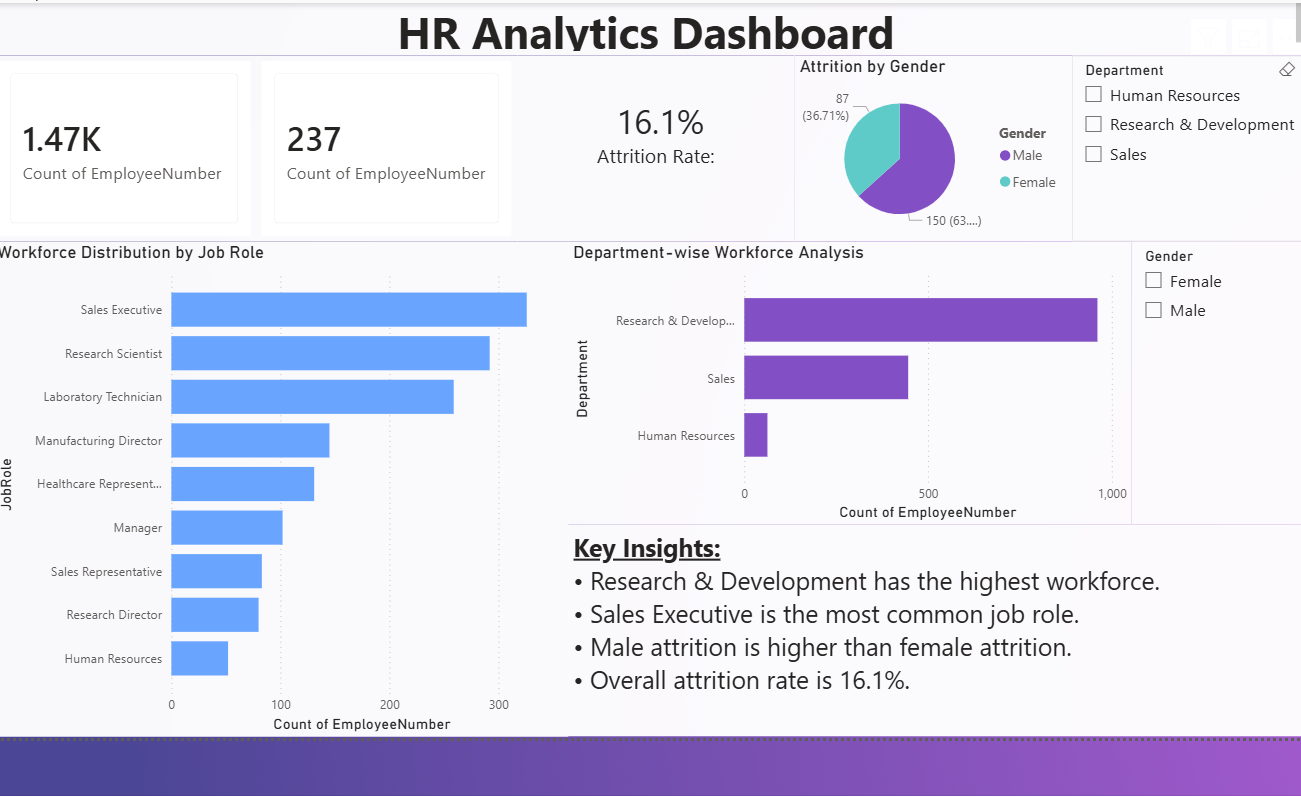

Layout of this report page (visuals, bound fields, positions):
{"tool":"powerbi","page":{"name":"Page 1","canvas":[1280,720],"ordinal":0},"visuals":[{"type":"cardVisual","title":"Total Employees","fields":{"Data":["CountNonNull(WA_Fn-UseC_-HR-Employee-Attrition.EmployeeNumber)"]},"box":[0,153.1,319.4,181.4],"z":0},{"type":"cardVisual","title":"Attrition Count","fields":{"Data":["CountNonNull(WA_Fn-UseC_-HR-Employee-Attrition.EmployeeNumber)"]},"box":[319.4,153.1,321.3,181.4],"z":1000},{"type":"clusteredBarChart","title":"Employees by Department","fields":{"Category":["WA_Fn-UseC_-HR-Employee-Attrition.Department"],"Y":["CountNonNull(WA_Fn-UseC_-HR-Employee-Attrition.EmployeeNumber)"]},"box":[559.4,334.5,548,383.6],"z":2000},{"type":"pieChart","title":"Attrition by Gender","fields":{"Category":["WA_Fn-UseC_-HR-Employee-Attrition.Gender"],"Y":["CountNonNull(WA_Fn-UseC_-HR-Employee-Attrition.EmployeeNumber)"]},"box":[640.6,153.1,370.4,181.4],"z":3000},{"type":"clusteredBarChart","title":"Employees by Job Role","fields":{"Category":["WA_Fn-UseC_-HR-Employee-Attrition.JobRole"],"Y":["CountNonNull(WA_Fn-UseC_-HR-Employee-Attrition.EmployeeNumber)"]},"box":[0,334.8,559.9,384.3],"z":4000},{"type":"slicer","fields":{"Values":["WA_Fn-UseC_-HR-Employee-Attrition.Department"]},"box":[1011,153.1,268.3,181.4],"z":5000},{"type":"slicer","fields":{"Values":["WA_Fn-UseC_-HR-Employee-Attrition.Gender"]},"box":[1107.4,334.5,172,383.6],"z":6000},{"type":"textbox","box":[0,0,1279.4,153.1],"z":7000}]}

Visuals, with their boxes on the page's 1280x720 design canvas (x1, y1, x2, y2). These are canvas units, not pixel positions in the 1301x797 screenshot, which may show the page scaled, cropped or inside an application window:
"Total Employees" cardVisual: {"x1": 0, "y1": 153, "x2": 319, "y2": 334}
"Attrition Count" cardVisual: {"x1": 319, "y1": 153, "x2": 641, "y2": 334}
"Employees by Department" clusteredBarChart: {"x1": 559, "y1": 334, "x2": 1107, "y2": 718}
"Attrition by Gender" pieChart: {"x1": 641, "y1": 153, "x2": 1011, "y2": 334}
"Employees by Job Role" clusteredBarChart: {"x1": 0, "y1": 335, "x2": 560, "y2": 719}
slicer - WA_Fn-UseC_-HR-Employee-Attrition.Department: {"x1": 1011, "y1": 153, "x2": 1279, "y2": 334}
slicer - WA_Fn-UseC_-HR-Employee-Attrition.Gender: {"x1": 1107, "y1": 334, "x2": 1279, "y2": 718}
textbox: {"x1": 0, "y1": 0, "x2": 1279, "y2": 153}
